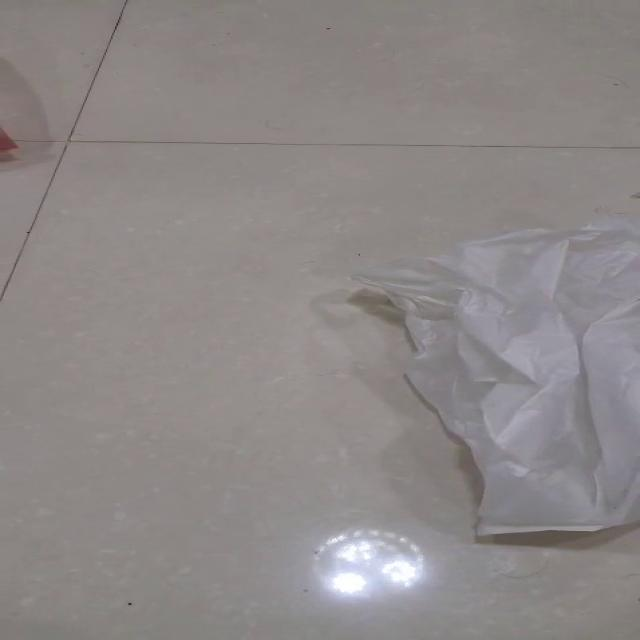plastic: (348, 215, 639, 536)
